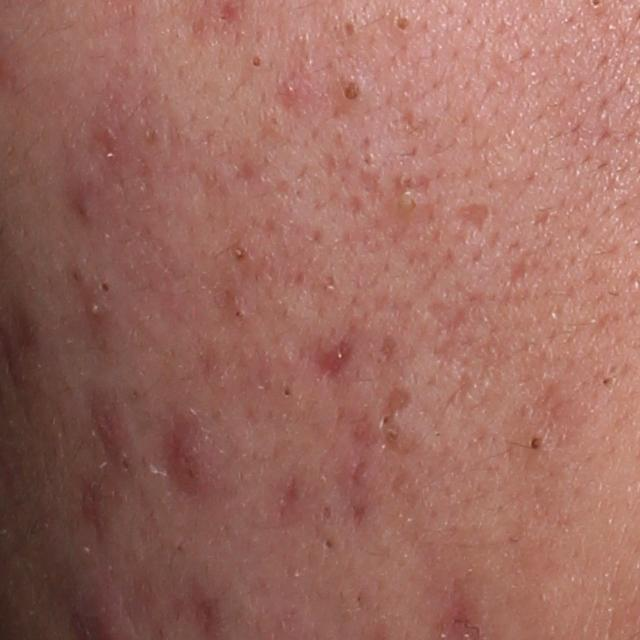atrophic_scar: (424, 291, 486, 359), (78, 476, 108, 549), (448, 198, 497, 234), (316, 338, 356, 380), (356, 165, 387, 207), (279, 473, 303, 518), (372, 331, 400, 362), (389, 386, 414, 414), (347, 461, 370, 489), (347, 505, 365, 526)
comedo: (340, 78, 365, 107), (337, 18, 360, 41), (388, 17, 413, 37), (521, 434, 547, 453), (228, 240, 250, 262), (114, 454, 136, 475), (274, 384, 297, 404), (68, 267, 88, 289), (246, 54, 265, 72), (94, 278, 113, 295), (599, 375, 618, 391), (380, 429, 401, 443), (374, 413, 393, 428), (322, 534, 334, 549)
papule: (167, 435, 217, 494)
